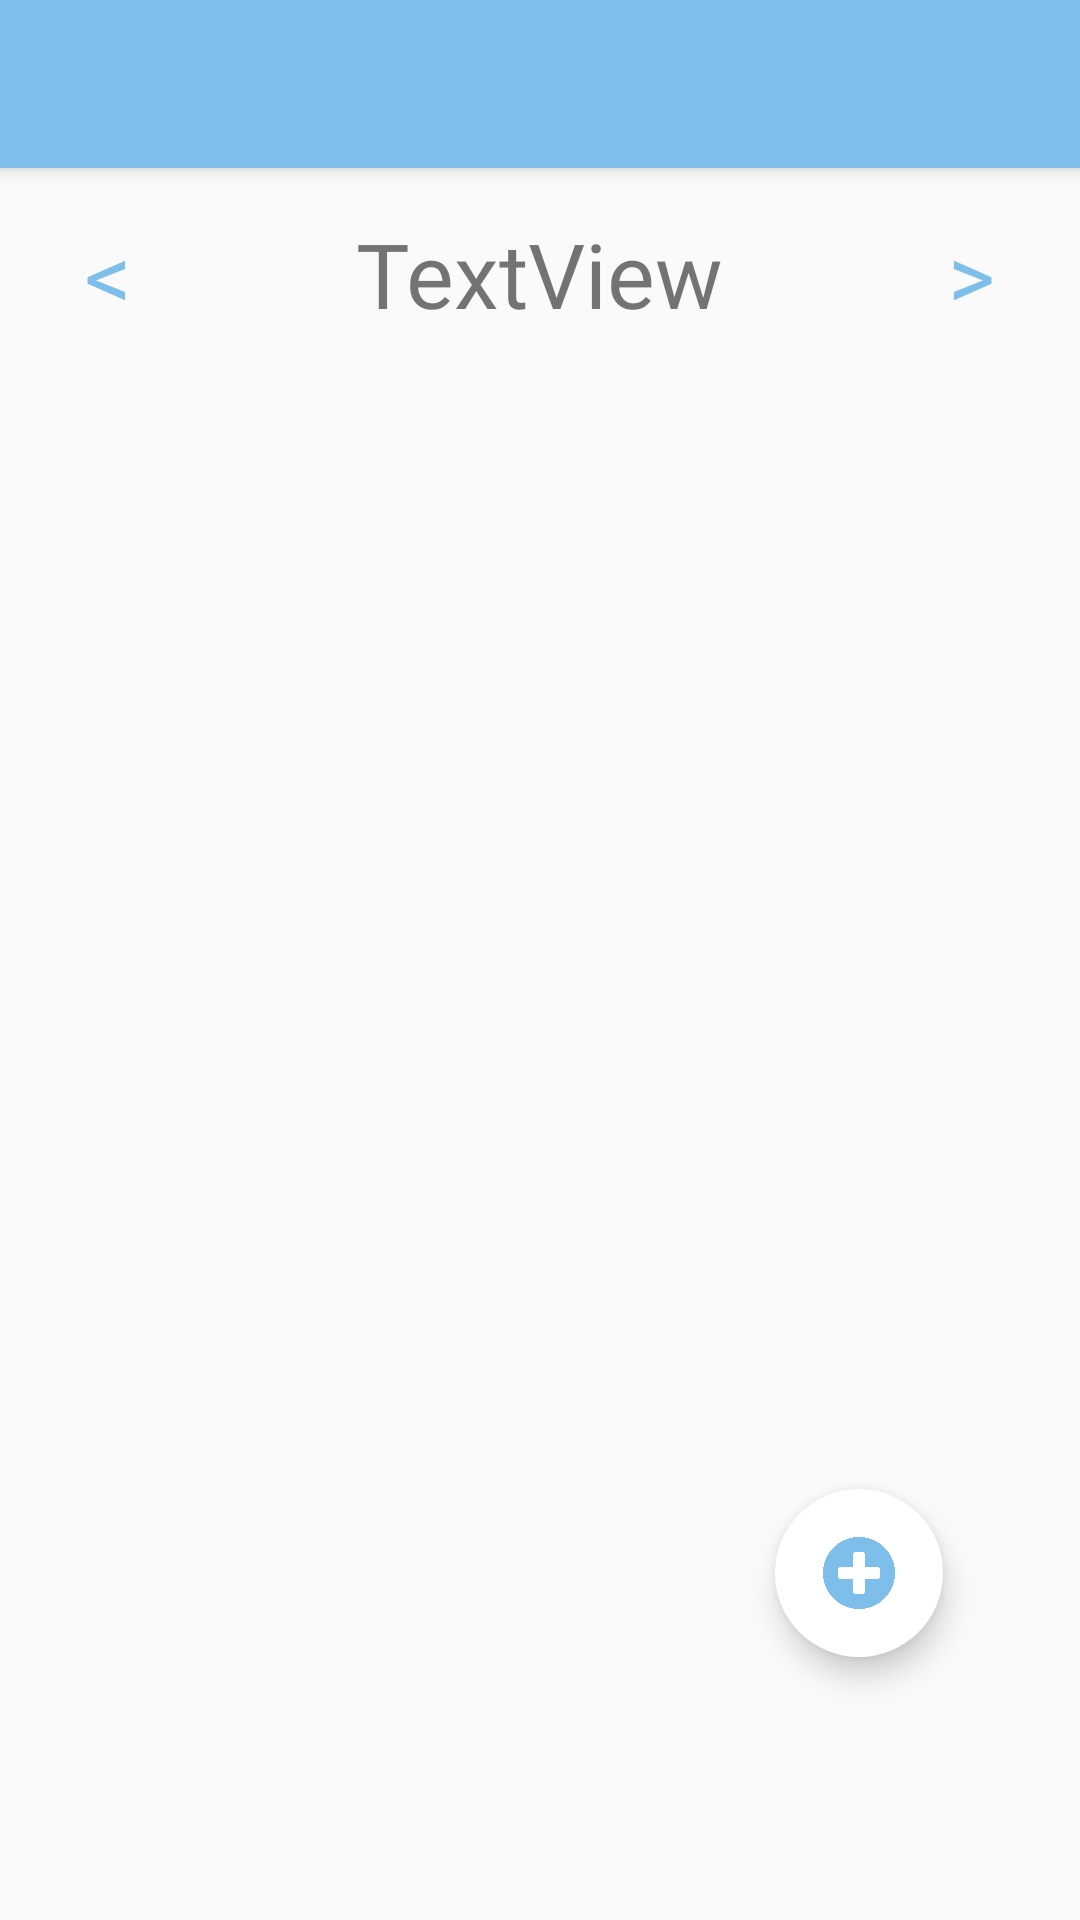

Icons on this 1080 × 1920 Android screen, each with its box as BBox(x1, y1, x2, y2):
add: BBox(778, 1537, 895, 1609)
